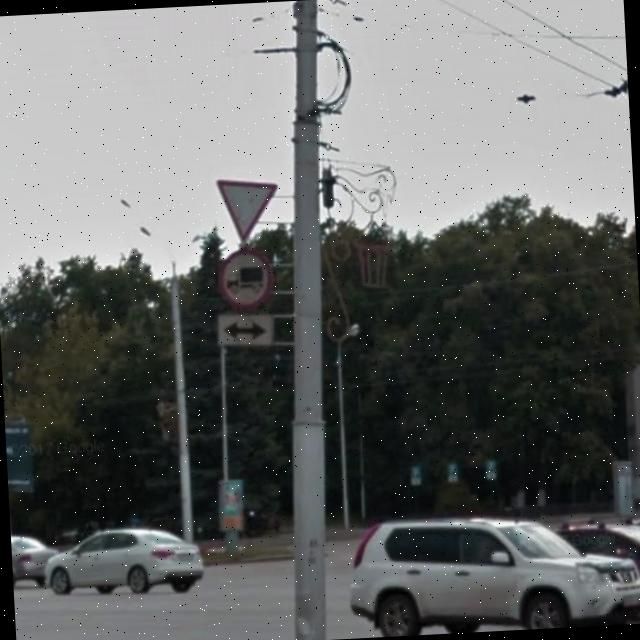Ustap pierwszenstwa: (216, 176, 282, 244)
